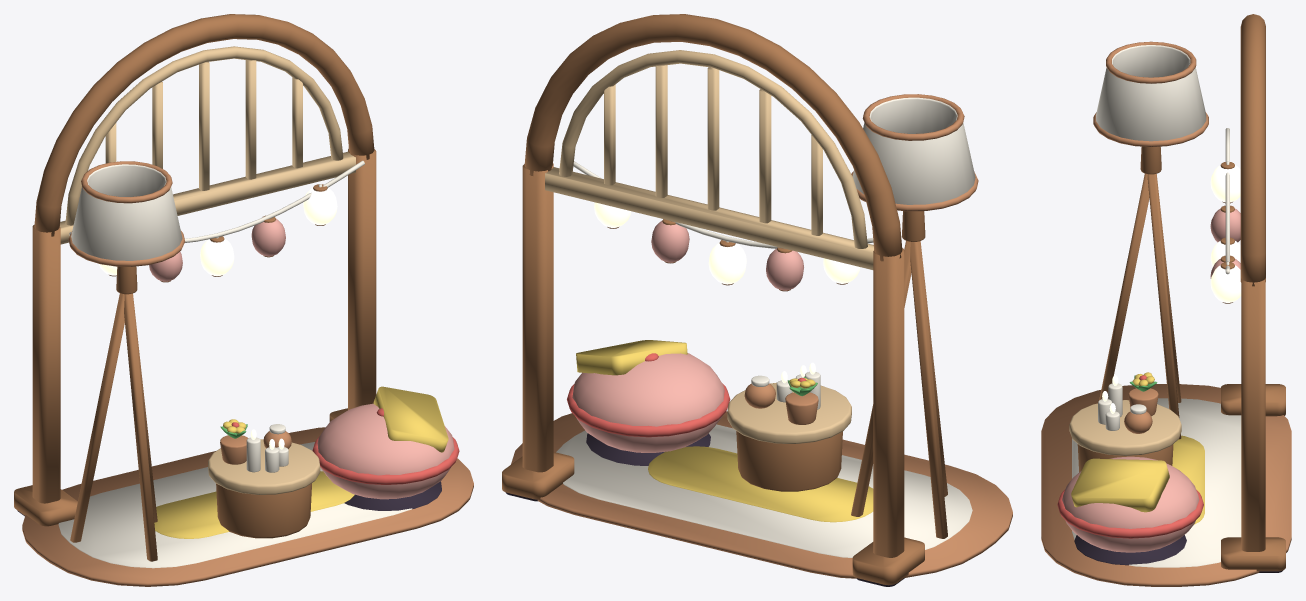
File: warm.glb
3 views of the same model, side by side, from view 1: azimuth 30°, elevation 25°; view 2: azimuth 150°, elevation 25°; view 3: azimuth 270°, elevation 25° (orthographic). The views are drawn at different scales.
Parts seen in each view (by area): view 1: ThemeWarm_WoodFrameAndLamp, ThemeWarm_CreamShadeAndCandles, ThemeWarm_WoodLightAccents, ThemeWarm_TerracottaRugAndPot, ThemeWarm_PeachPoufAndLanterns, ThemeWarm_ButterThrowAndRug, ThemeWarm_GlowLanternsAndBulb, ThemeWarm_CoralPoufTrim, ThemeWarm_BasePads; view 2: ThemeWarm_WoodFrameAndLamp, ThemeWarm_WoodLightAccents, ThemeWarm_CreamShadeAndCandles, ThemeWarm_TerracottaRugAndPot, ThemeWarm_PeachPoufAndLanterns, ThemeWarm_ButterThrowAndRug, ThemeWarm_GlowLanternsAndBulb, ThemeWarm_CoralPoufTrim, ThemeWarm_BasePads; view 3: ThemeWarm_WoodFrameAndLamp, ThemeWarm_CreamShadeAndCandles, ThemeWarm_TerracottaRugAndPot, ThemeWarm_PeachPoufAndLanterns, ThemeWarm_ButterThrowAndRug, ThemeWarm_WoodLightAccents, ThemeWarm_GlowLanternsAndBulb, ThemeWarm_CoralPoufTrim, ThemeWarm_BasePads.
Boxes of the visible parts, left/top/right/bottom form: ThemeWarm_WoodFrameAndLamp: left=14, top=14, right=376, bottom=561; ThemeWarm_CreamShadeAndCandles: left=58, top=160, right=412, bottom=568; ThemeWarm_WoodLightAccents: left=60, top=46, right=355, bottom=494; ThemeWarm_TerracottaRugAndPot: left=22, top=161, right=473, bottom=586; ThemeWarm_PeachPoufAndLanterns: left=149, top=218, right=454, bottom=499; ThemeWarm_ButterThrowAndRug: left=154, top=386, right=448, bottom=538; ThemeWarm_GlowLanternsAndBulb: left=98, top=187, right=337, bottom=449; ThemeWarm_CoralPoufTrim: left=231, top=408, right=459, bottom=484; ThemeWarm_BasePads: left=17, top=481, right=441, bottom=516; ThemeWarm_WoodFrameAndLamp: left=502, top=14, right=947, bottom=585; ThemeWarm_WoodLightAccents: left=545, top=50, right=873, bottom=443; ThemeWarm_CreamShadeAndCandles: left=556, top=97, right=975, bottom=557; ThemeWarm_TerracottaRugAndPot: left=511, top=94, right=1012, bottom=578; ThemeWarm_PeachPoufAndLanterns: left=572, top=220, right=803, bottom=452; ThemeWarm_ButterThrowAndRug: left=576, top=340, right=873, bottom=522; ThemeWarm_GlowLanternsAndBulb: left=594, top=202, right=860, bottom=383; ThemeWarm_CoralPoufTrim: left=567, top=353, right=806, bottom=437; ThemeWarm_BasePads: left=505, top=433, right=904, bottom=586; ThemeWarm_WoodFrameAndLamp: left=1077, top=14, right=1285, bottom=571; ThemeWarm_CreamShadeAndCandles: left=1072, top=45, right=1241, bottom=567; ThemeWarm_TerracottaRugAndPot: left=1041, top=41, right=1291, bottom=586; ThemeWarm_PeachPoufAndLanterns: left=1062, top=208, right=1240, bottom=552; ThemeWarm_ButterThrowAndRug: left=1071, top=372, right=1204, bottom=524; ThemeWarm_WoodLightAccents: left=1069, top=400, right=1181, bottom=455; ThemeWarm_GlowLanternsAndBulb: left=1102, top=165, right=1241, bottom=413; ThemeWarm_CoralPoufTrim: left=1057, top=375, right=1203, bottom=538; ThemeWarm_BasePads: left=1074, top=535, right=1282, bottom=572.
Bounding box in the file's own units: 1.84 × 1.97 × 0.98.
